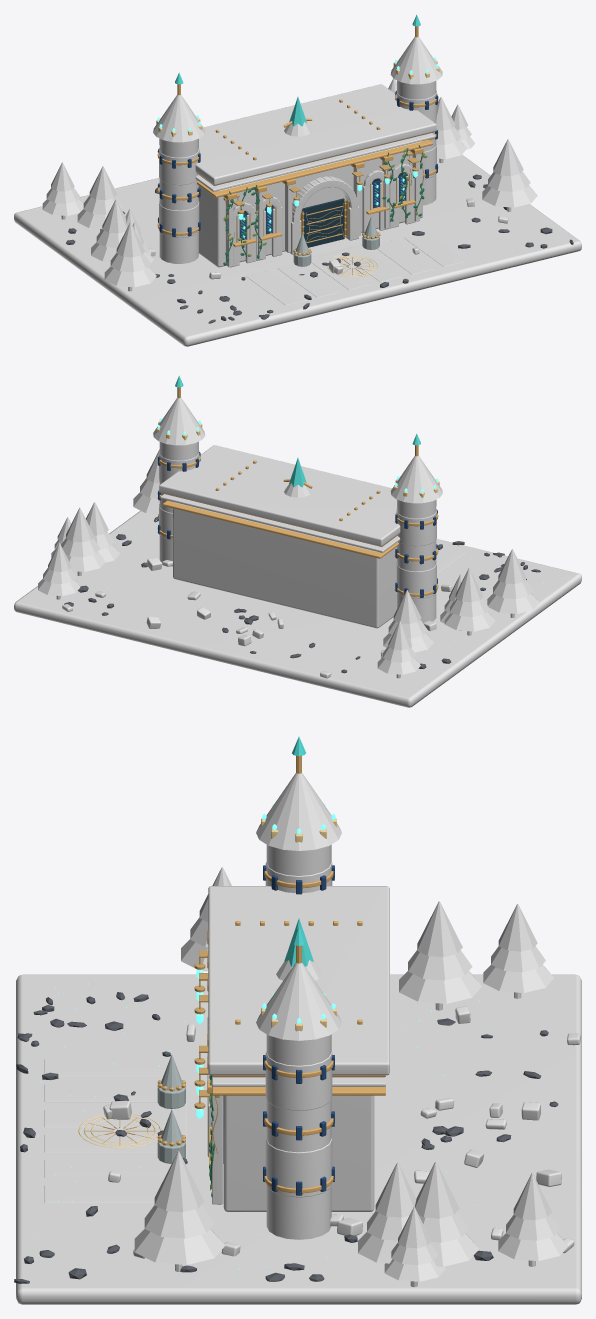
Rendered from NW_StarfallSanctum_OptimizedStatic.fbx.
3 renders of one model, top to bottom at view 1: azimuth 30°, elevation 25°; view 2: azimuth 150°, elevation 25°; view 3: azimuth 270°, elevation 25°, orthographic. The views are drawn at different scales.
Visible parts, largest first — view 1: NW_StaticBatch_NW_Basalt, NW_StaticBatch_NW_Deep_Azure, NW_StaticBatch_NW_Frosted_Masonry, NW_StaticBatch_NW_Slate_Stone, NW_StaticBatch_NW_Foliage_Emerald, NW_StaticBatch_NW_Ember_Gold, NW_StaticBatch_NW_Foliage_Silver, NW_StaticBatch_NW_Art_Gilded_Brass, NW_StaticBatch_NW_Dark_Recess, NW_StaticBatch_NW_Art_Gravel, NW_StaticBatch_NW_Art_Lapis_Glass, NW_StaticBatch_NW_Art_ClimbingIvy (+3 smaller); view 2: NW_StaticBatch_NW_Basalt, NW_StaticBatch_NW_Slate_Stone, NW_StaticBatch_NW_Deep_Azure, NW_StaticBatch_NW_Foliage_Emerald, NW_StaticBatch_NW_Foliage_Silver, NW_StaticBatch_NW_Frosted_Masonry, NW_StaticBatch_NW_Ember_Gold, NW_StaticBatch_NW_Art_Gravel, NW_StaticBatch_NW_Art_Lapis_Glass; view 3: NW_StaticBatch_NW_Basalt, NW_StaticBatch_NW_Deep_Azure, NW_StaticBatch_NW_Frosted_Masonry, NW_StaticBatch_NW_Foliage_Emerald, NW_StaticBatch_NW_Slate_Stone, NW_StaticBatch_NW_Foliage_Silver, NW_StaticBatch_NW_Art_Gravel, NW_StaticBatch_NW_Ember_Gold, NW_StaticBatch_NW_Art_PaleStone, NW_StaticBatch_NW_Art_Gilded_Brass, NW_StaticBatch_NW_Art_Lapis_Glass, NW_StaticBatch_NW_Art_Champagne_Gold (+1 smaller).
Boxes of the visible parts, x1,y1,x2,y2 form: NW_StaticBatch_NW_Basalt: [14, 154, 581, 346]; NW_StaticBatch_NW_Deep_Azure: [153, 37, 442, 191]; NW_StaticBatch_NW_Frosted_Masonry: [159, 90, 464, 305]; NW_StaticBatch_NW_Slate_Stone: [61, 80, 511, 291]; NW_StaticBatch_NW_Foliage_Emerald: [42, 78, 537, 287]; NW_StaticBatch_NW_Ember_Gold: [157, 26, 438, 247]; NW_StaticBatch_NW_Foliage_Silver: [46, 126, 530, 272]; NW_StaticBatch_NW_Art_Gilded_Brass: [157, 93, 423, 275]; NW_StaticBatch_NW_Dark_Recess: [244, 172, 406, 247]; NW_StaticBatch_NW_Art_Gravel: [66, 174, 573, 323]; NW_StaticBatch_NW_Art_Lapis_Glass: [158, 90, 437, 239]; NW_StaticBatch_NW_Art_ClimbingIvy: [223, 145, 424, 265]; NW_StaticBatch_NW_Basalt: [14, 510, 581, 707]; NW_StaticBatch_NW_Slate_Stone: [56, 441, 514, 678]; NW_StaticBatch_NW_Deep_Azure: [153, 398, 442, 552]; NW_StaticBatch_NW_Foliage_Emerald: [38, 449, 539, 674]; NW_StaticBatch_NW_Foliage_Silver: [43, 478, 533, 662]; NW_StaticBatch_NW_Frosted_Masonry: [159, 451, 465, 598]; NW_StaticBatch_NW_Ember_Gold: [157, 387, 438, 596]; NW_StaticBatch_NW_Art_Gravel: [64, 516, 540, 673]; NW_StaticBatch_NW_Art_Lapis_Glass: [158, 451, 437, 597]; NW_StaticBatch_NW_Basalt: [16, 974, 581, 1304]; NW_StaticBatch_NW_Deep_Azure: [208, 772, 389, 1086]; NW_StaticBatch_NW_Frosted_Masonry: [44, 862, 332, 1204]; NW_StaticBatch_NW_Foliage_Emerald: [134, 867, 568, 1281]; NW_StaticBatch_NW_Slate_Stone: [167, 844, 535, 1287]; NW_StaticBatch_NW_Foliage_Silver: [144, 917, 559, 1264]; NW_StaticBatch_NW_Art_Gravel: [14, 992, 558, 1283]; NW_StaticBatch_NW_Ember_Gold: [207, 755, 385, 1193]; NW_StaticBatch_NW_Art_PaleStone: [157, 1054, 185, 1163]; NW_StaticBatch_NW_Art_Gilded_Brass: [85, 878, 334, 1194]; NW_StaticBatch_NW_Art_Lapis_Glass: [263, 865, 334, 1195]; NW_StaticBatch_NW_Art_Champagne_Gold: [78, 818, 336, 1159].
Bounding box in the file's own units: 3088 × 1348 × 2188.
